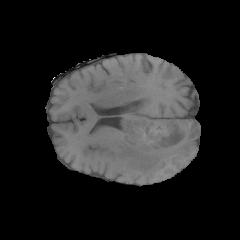glioma: (119, 118, 198, 175)
